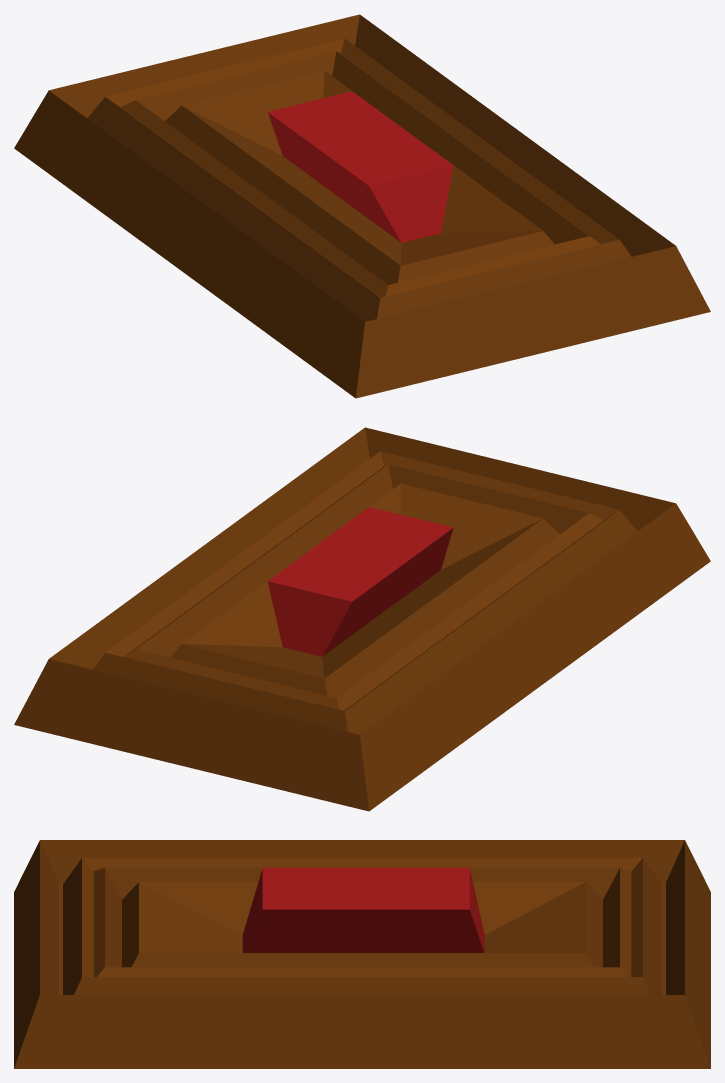
Rendered from switch.FBX.
The picture shows the model from 3 angles, top to bottom: view 1: azimuth 30°, elevation 25°; view 2: azimuth 150°, elevation 25°; view 3: azimuth 270°, elevation 25°; orthographic projection.
Parts seen in each view (by area): view 1: Box001; view 2: Box001; view 3: Box001.
Boxes of the visible parts, x1=… form: Box001: x1=14, y1=14, x2=710, y2=398; Box001: x1=14, y1=427, x2=710, y2=811; Box001: x1=14, y1=840, x2=710, y2=1068.
Bounding box in the file's own units: 23.62 × 5.73 × 39.37.
